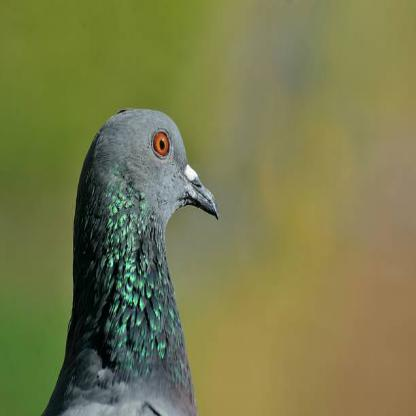Rock Pigeon: (36, 105, 224, 416)
